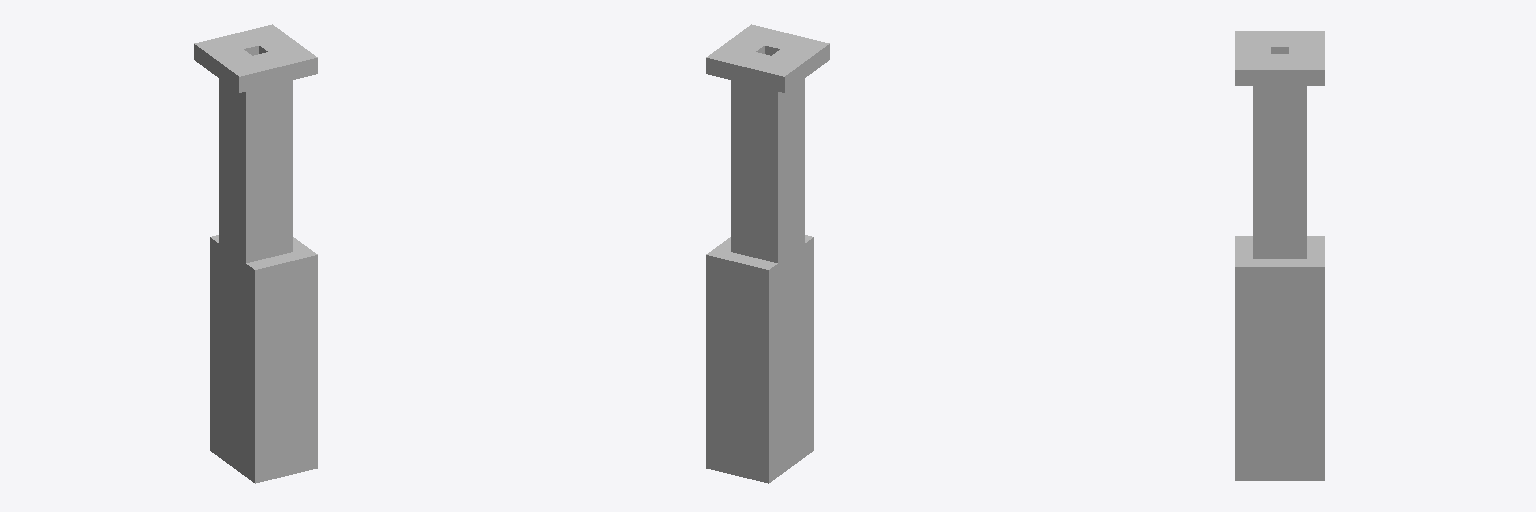
File: Chimney.obj
3 views of the same model, side by side, from view 1: azimuth 30°, elevation 25°; view 2: azimuth 150°, elevation 25°; view 3: azimuth 270°, elevation 25° (orthographic).
Parts seen in each view (by area): view 1: Chimney; view 2: Chimney; view 3: Chimney.
Part boxes in pixels (x1,y1,x2,y2): Chimney: (194, 24, 317, 483); Chimney: (706, 24, 829, 483); Chimney: (1235, 31, 1324, 480).
Size of the model in its own units: 5 by 25 by 5.